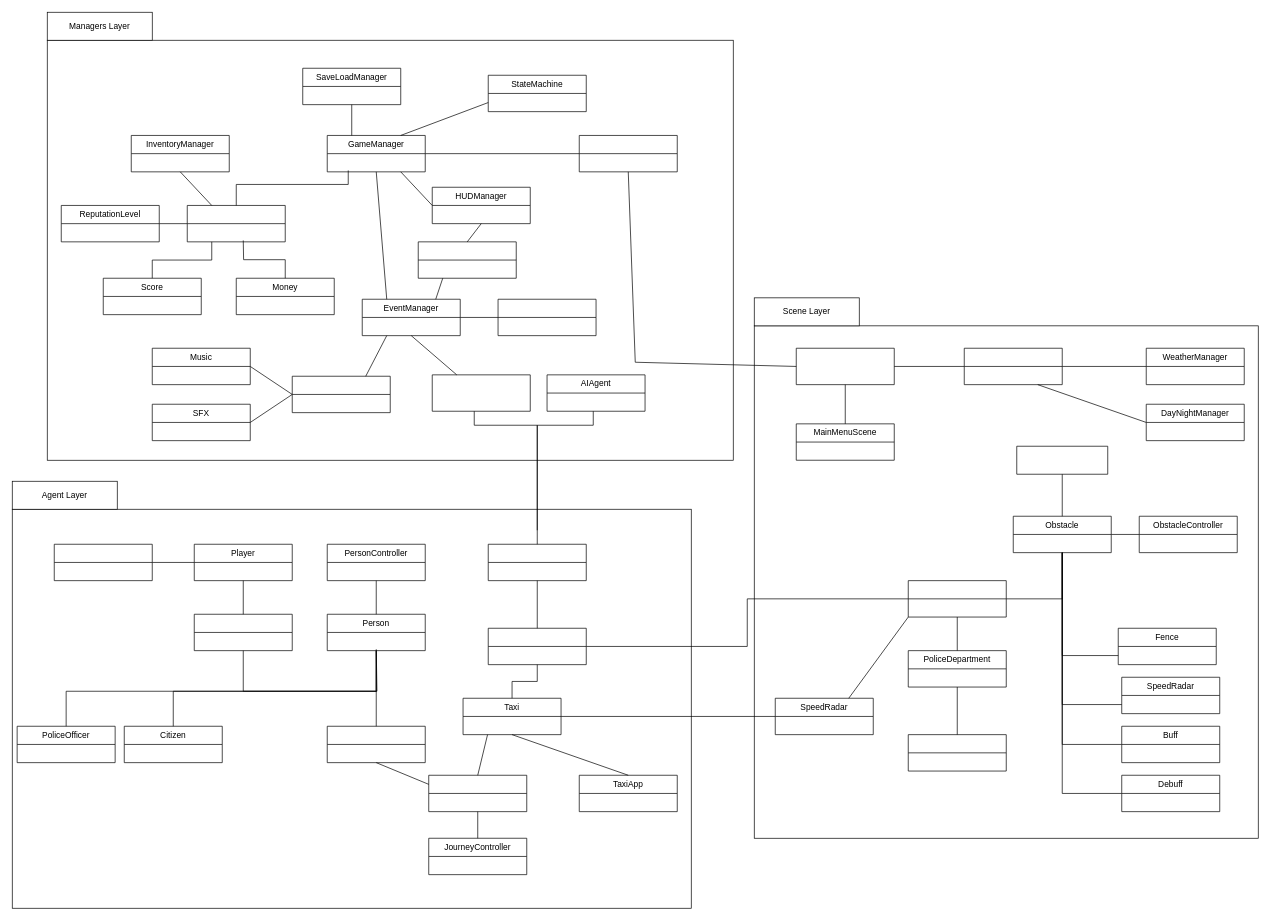
Some shapes in this 1271 by 921 pixel diagram are drawn without their labels. The shapes that lost their labels are listed below. From the top down, each one's centre as x and y in pixels, then its label:
[628,153]: SceneManager
[236,223]: DataManager
[467,259]: NotificationManager
[546,317]: MisionManager
[845,366]: Scene
[1013,366]: GameScene
[341,394]: SoundManager
[481,392]: Events
[1062,460]: ObstacleFactory
[103,562]: PlayerController
[537,562]: VehicleController
[957,598]: PoliceCar
[243,632]: Taxi Driver
[537,646]: Vehicle
[376,744]: Passengers
[957,752]: Alert
[477,793]: Journey
